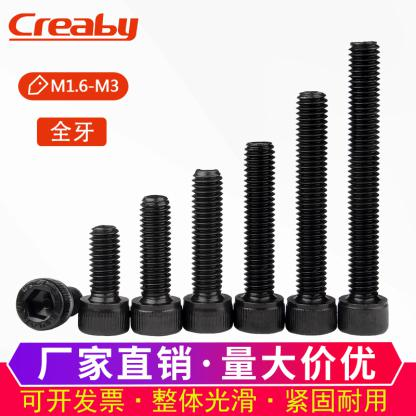FOD: (336, 38, 390, 337), (284, 89, 338, 336), (232, 141, 284, 337), (182, 166, 233, 334), (130, 192, 184, 336), (78, 222, 130, 338), (13, 277, 82, 331)
